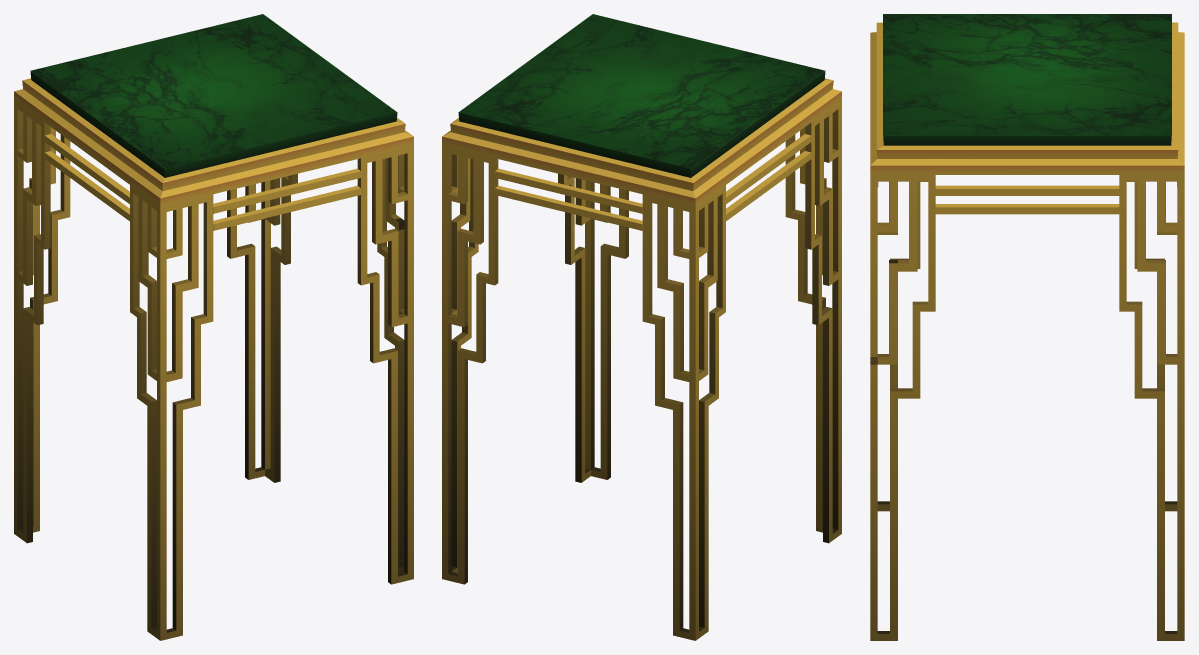
File: M_Table.fbx
The picture shows the model from 3 angles, left to right: view 1: azimuth 30°, elevation 25°; view 2: azimuth 150°, elevation 25°; view 3: azimuth 270°, elevation 25°; orthographic projection. The views are drawn at different scales.
Parts seen in each view (by area): view 1: M_Table; view 2: M_Table; view 3: M_Table.
Boxes of the visible parts, x1,y1,x2,y2 form: M_Table: [14, 14, 413, 640]; M_Table: [442, 14, 841, 640]; M_Table: [870, 14, 1184, 640].
Size of the model in its own units: 6 by 10.52 by 6.
1 material, 1 textured.
